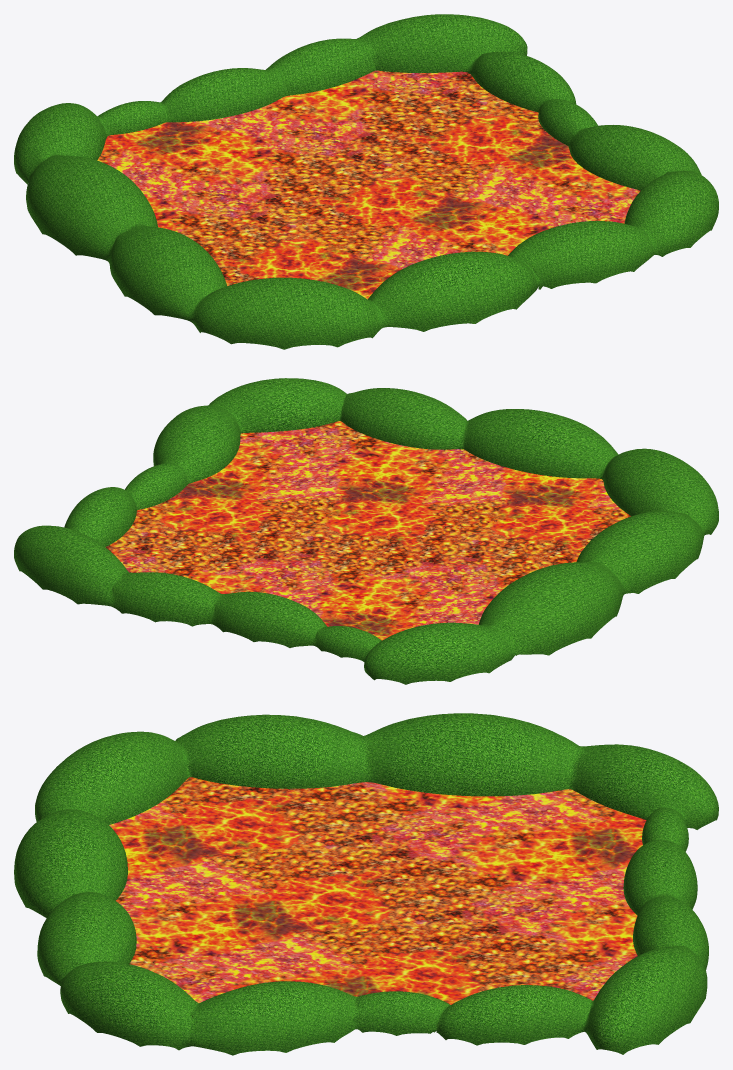
The model's file is teren.glb.
The picture shows the model from 3 angles, top to bottom: view 1: azimuth 30°, elevation 25°; view 2: azimuth 150°, elevation 25°; view 3: azimuth 270°, elevation 25°; orthographic projection. The views are drawn at different scales.
Parts seen in each view (by area): view 1: Icosphere.013, Plane; view 2: Icosphere.013, Plane; view 3: Icosphere.013, Plane.
Part boxes in pixels (x1,y1,x2,y2): Icosphere.013: (14,14,718,349); Plane: (97,70,640,299); Icosphere.013: (14,378,718,684); Plane: (105,421,630,640); Icosphere.013: (14,713,718,1055); Plane: (109,777,646,1004).
Size of the model in its own units: 382 by 34.69 by 369.
2 materials, 2 textured.
